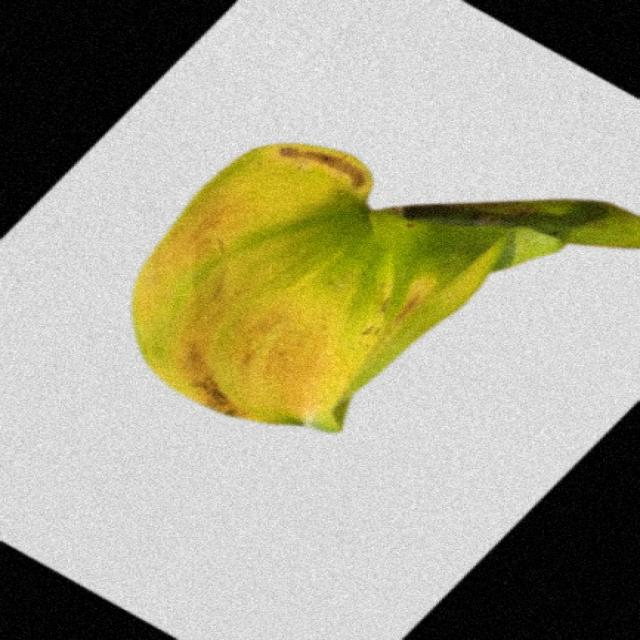daun berpenyakit kuning: (133, 144, 638, 432)
